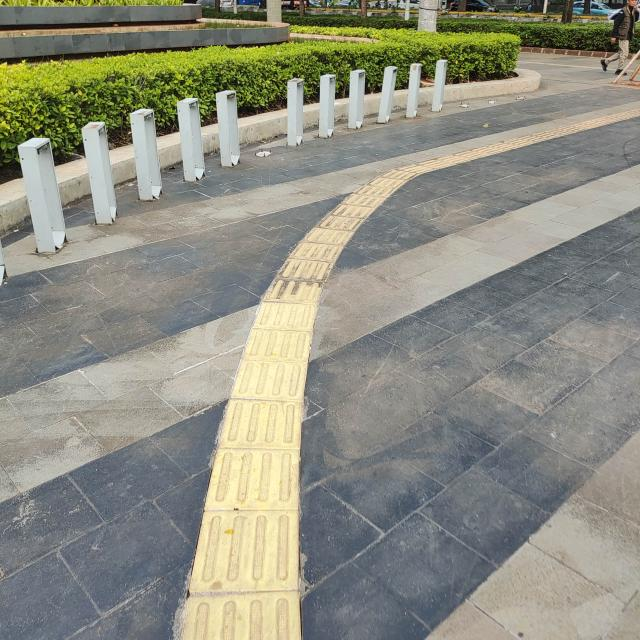lurus: (188, 273, 322, 640)
